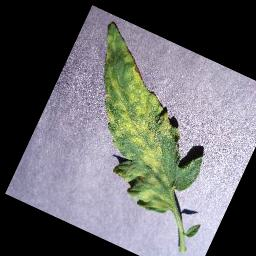Leaf_Mold: (43, 19, 232, 218)
